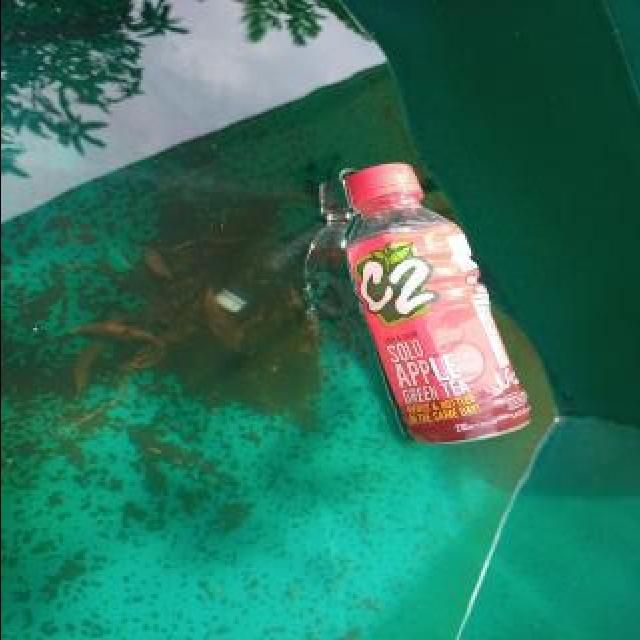Bottle: (319, 141, 539, 453)
